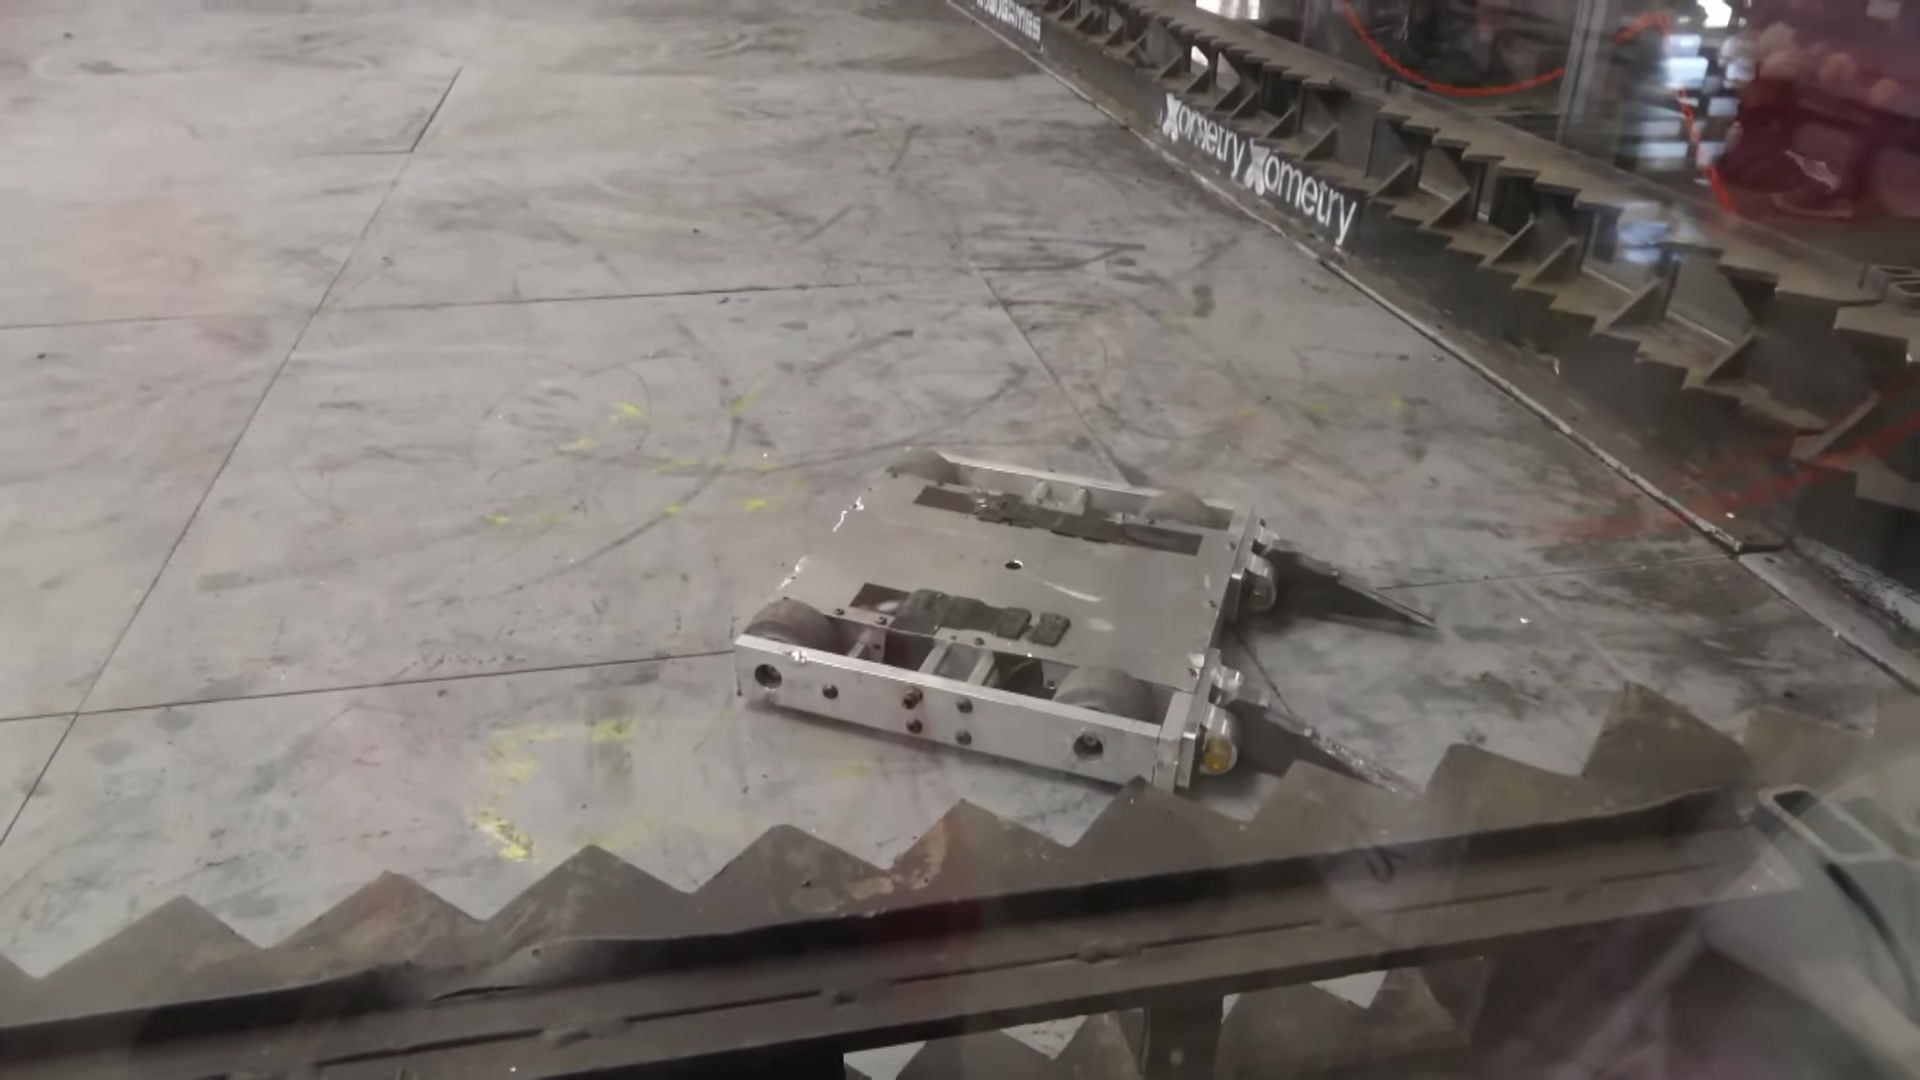combatbot: (733, 444, 1439, 822)
